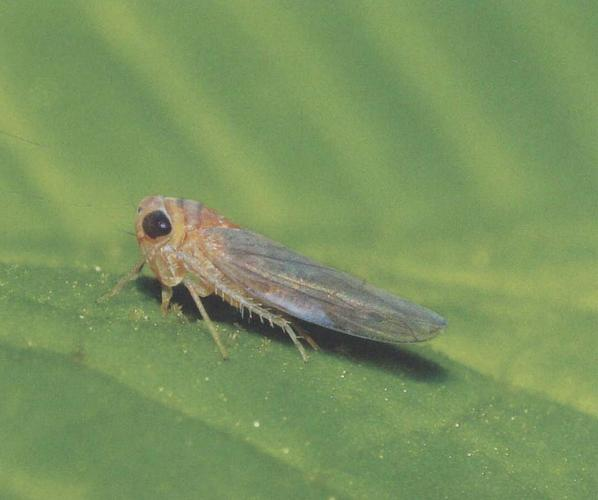Cicadellidae: (101, 194, 449, 362)
